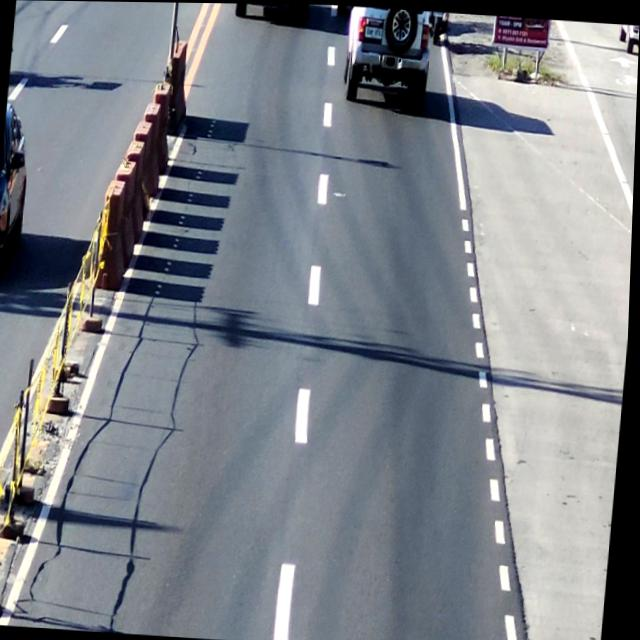Car: (342, 5, 430, 99)
License-Plate: (361, 22, 385, 41)
